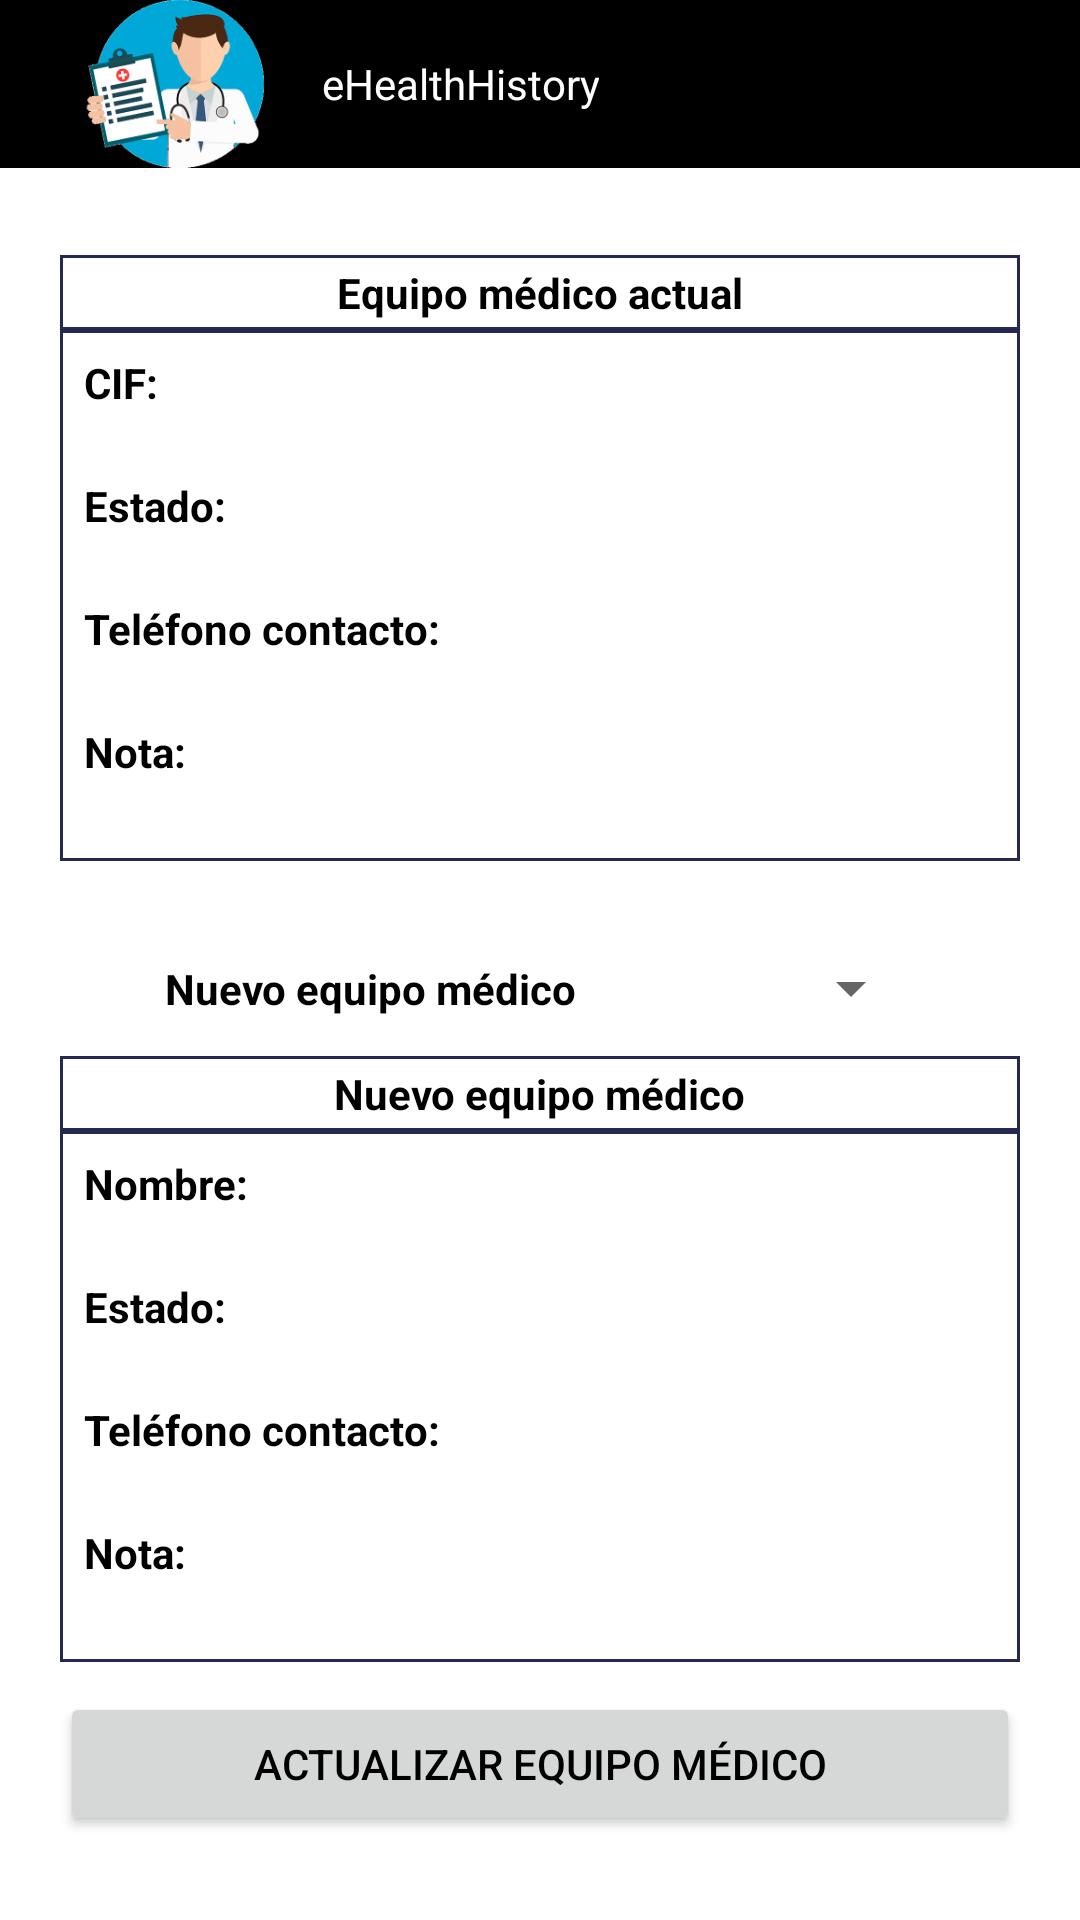

Locate icon controls on the screen. Image size 1080w x 1920h, boxes as BBox(x1, y1, x2, y2).
Imagen de la aplicación: BBox(86, 0, 264, 168)
